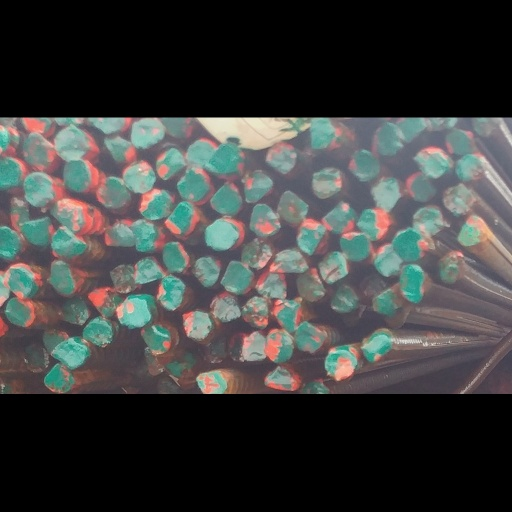dipstick: (47, 148, 89, 216), (54, 12, 94, 82), (51, 404, 92, 467), (23, 28, 57, 102), (294, 182, 326, 259), (164, 153, 199, 223), (278, 133, 311, 206), (310, 87, 348, 150), (359, 390, 395, 456), (94, 106, 131, 170), (203, 184, 239, 249), (116, 326, 153, 389), (48, 201, 86, 262), (325, 423, 360, 489), (414, 53, 453, 112), (356, 167, 393, 229), (220, 262, 252, 331), (264, 45, 299, 108), (3, 272, 39, 333), (322, 152, 358, 213), (101, 25, 137, 86), (410, 161, 448, 218), (5, 331, 41, 391), (441, 122, 477, 182), (393, 202, 427, 265), (295, 278, 328, 342), (123, 76, 157, 138), (399, 271, 427, 346), (48, 265, 80, 330), (61, 74, 93, 139), (210, 117, 243, 180), (294, 378, 327, 440), (373, 229, 403, 297), (405, 98, 440, 156), (240, 98, 275, 156), (207, 50, 243, 106), (130, 0, 166, 56), (370, 108, 401, 173), (22, 100, 53, 165), (81, 367, 115, 426), (249, 158, 281, 220), (177, 91, 209, 153), (306, 0, 337, 64), (43, 452, 76, 512), (209, 322, 243, 380), (138, 131, 173, 187), (130, 188, 161, 251), (318, 248, 350, 309), (155, 50, 185, 115), (348, 58, 381, 117), (157, 291, 186, 358), (264, 457, 301, 509), (181, 354, 213, 414), (453, 65, 489, 118), (140, 382, 174, 438), (240, 222, 273, 279), (19, 180, 52, 237), (456, 180, 487, 240), (444, 17, 478, 71), (191, 253, 220, 316), (265, 391, 293, 456), (243, 327, 270, 393), (184, 36, 215, 93), (133, 258, 166, 311), (272, 337, 302, 395), (374, 8, 402, 70), (57, 333, 89, 387), (339, 212, 372, 264), (162, 227, 189, 289), (103, 187, 134, 241), (256, 280, 287, 333), (270, 243, 308, 286), (357, 285, 388, 336), (330, 310, 359, 360), (196, 467, 228, 512), (373, 314, 399, 369), (23, 417, 48, 474), (140, 424, 166, 478), (109, 269, 133, 327), (7, 149, 31, 207), (395, 0, 428, 42), (242, 395, 267, 450), (0, 199, 21, 263), (0, 72, 21, 135), (42, 388, 71, 433), (439, 247, 460, 307), (88, 0, 130, 30), (88, 313, 114, 360), (0, 15, 20, 70), (471, 0, 502, 33), (21, 1, 54, 31), (227, 397, 243, 451), (154, 478, 179, 512), (302, 483, 330, 512)
